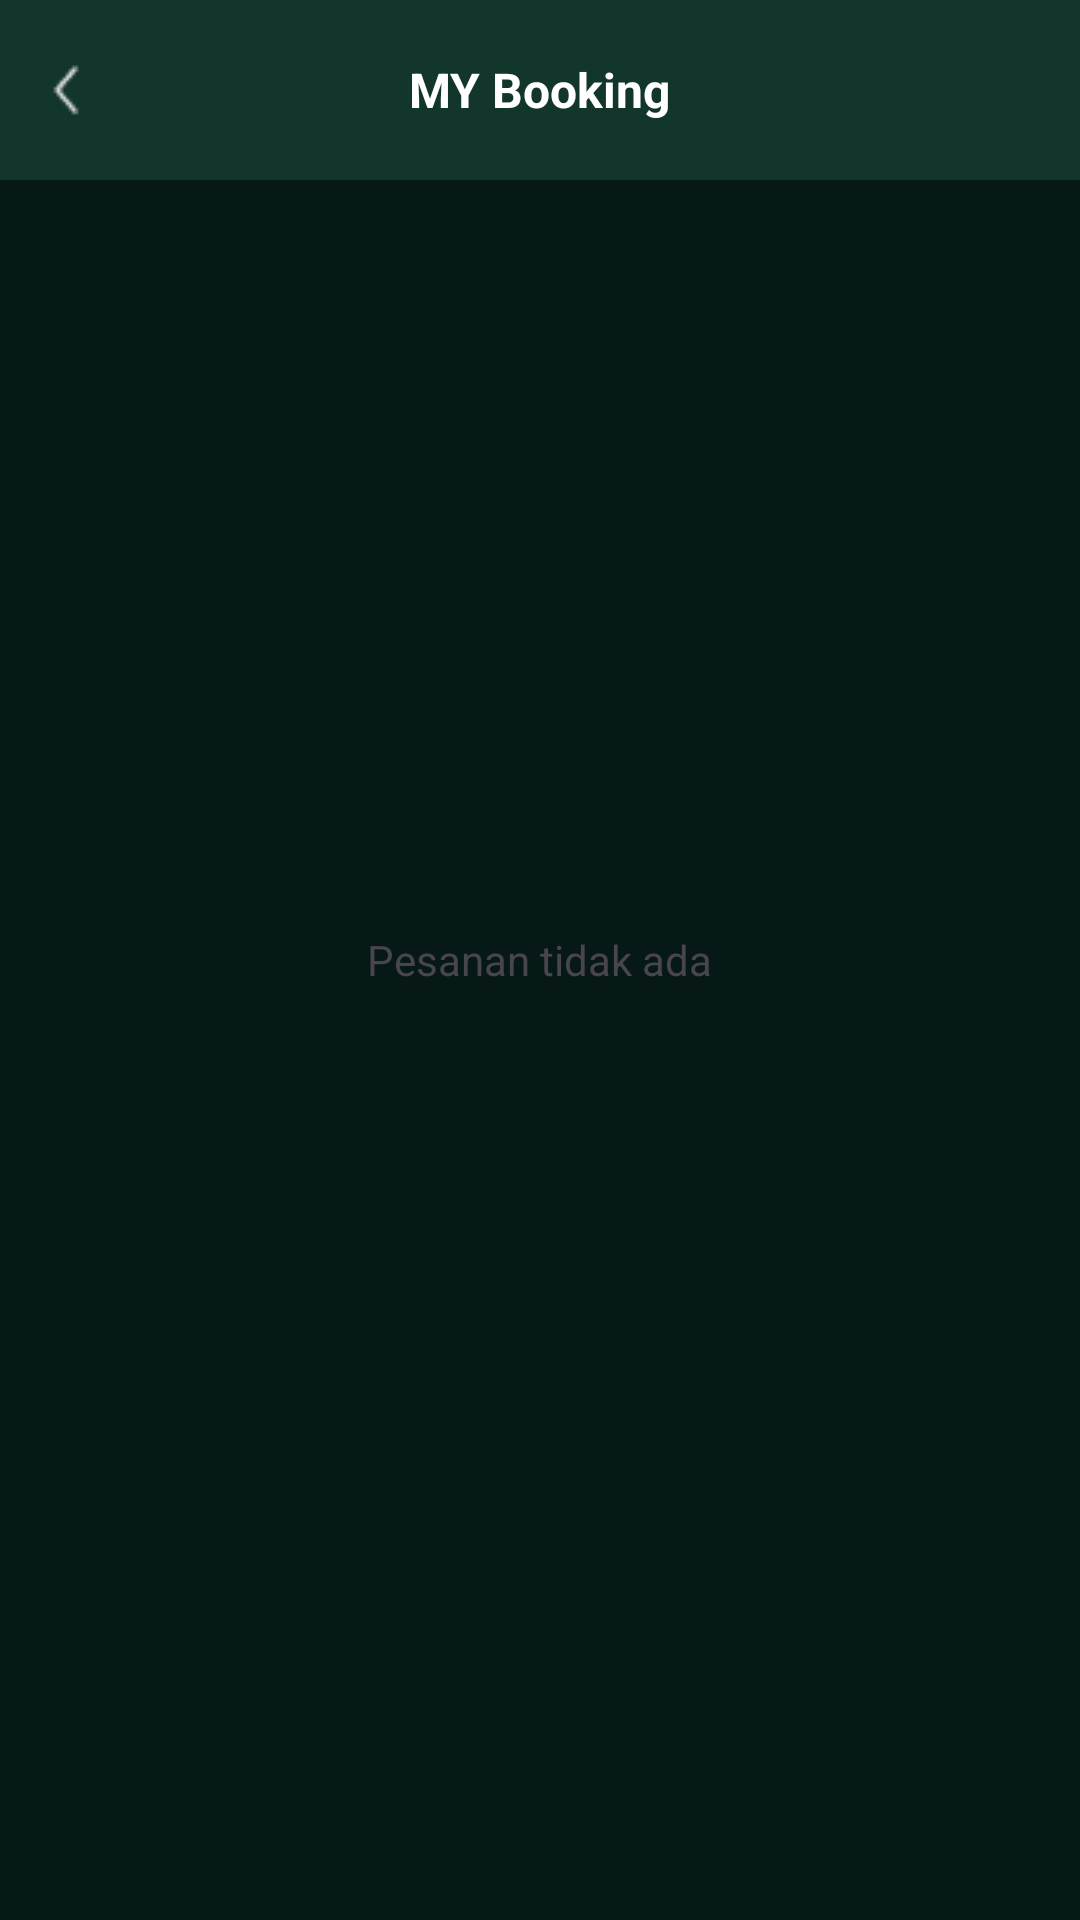

Icon bounding boxes for this 1080px x 1920px phone screenshot, format (x1, y1, x2, y2):
back: (53, 65, 79, 115)
